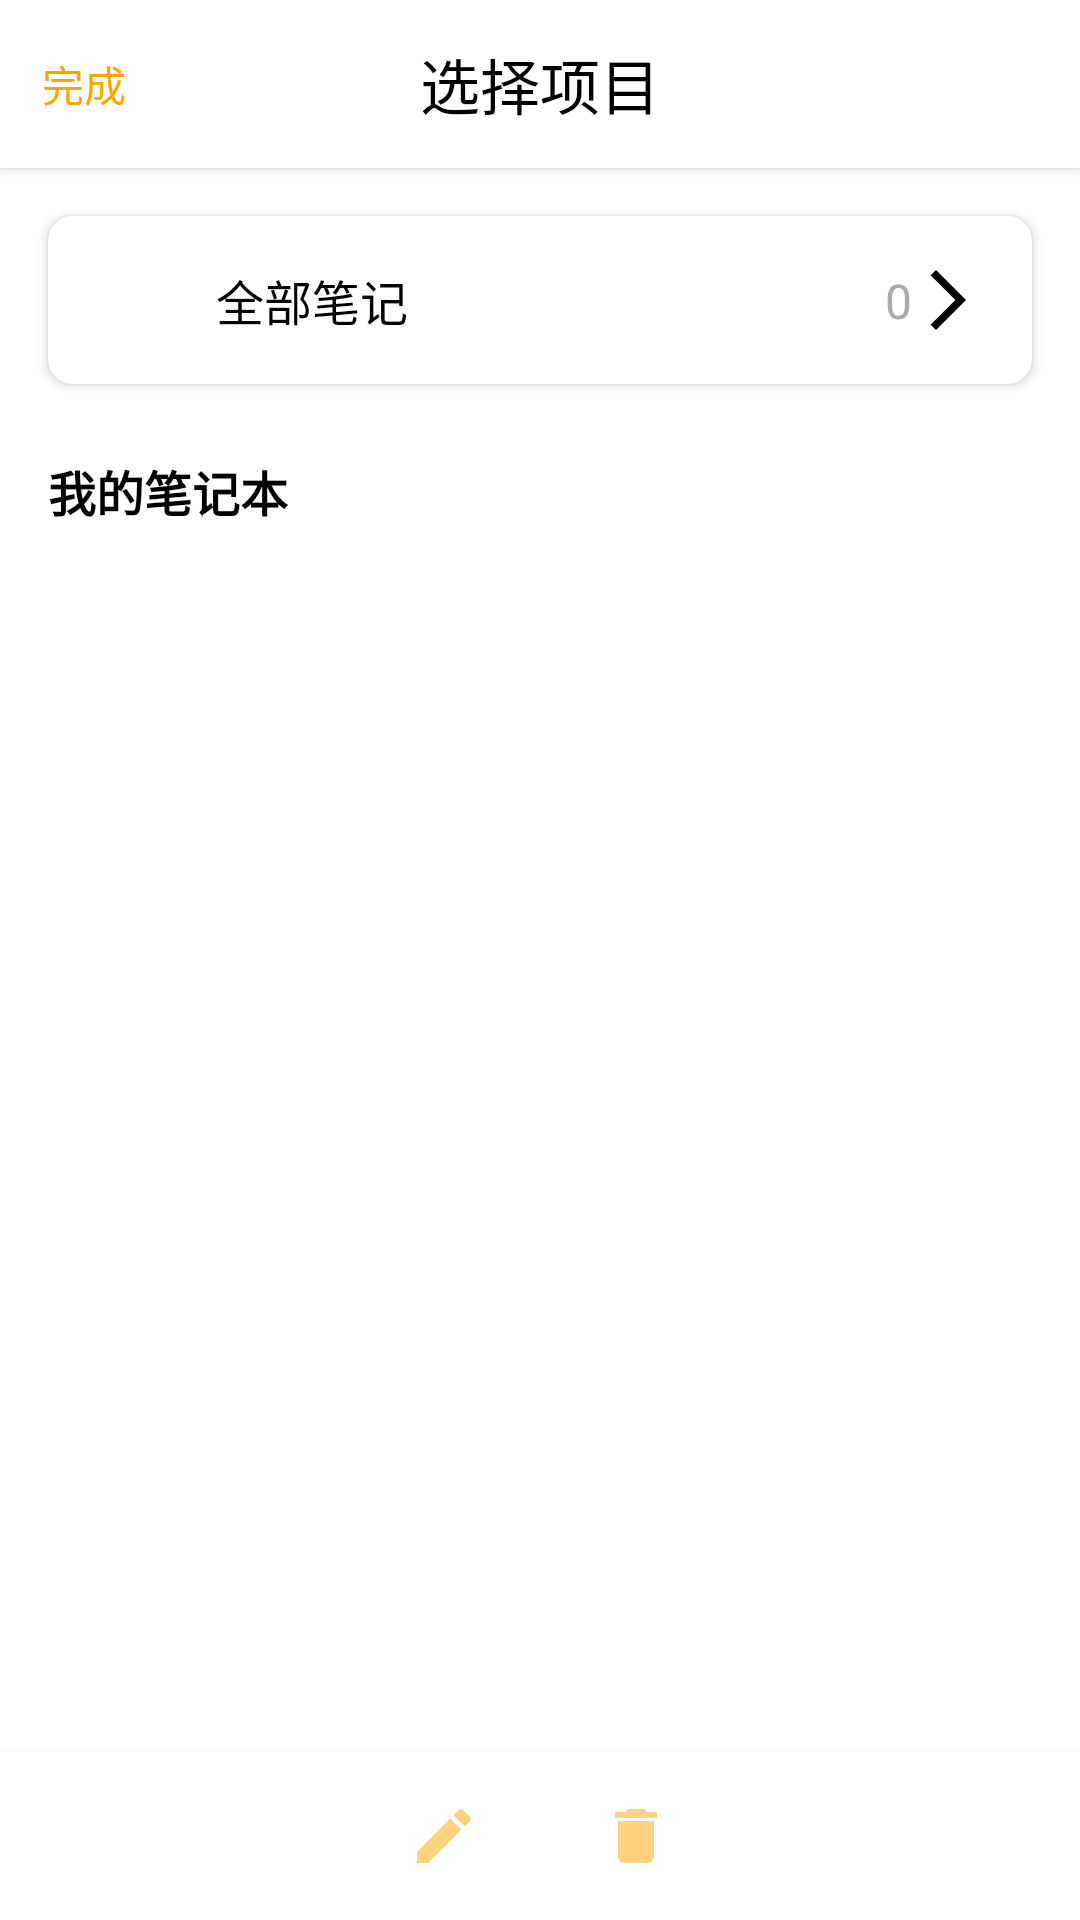

Screen size 1080 x 1920. Icon name, then its center in pixels as (x=x, y=y):
arrow right: (x=948, y=300)
edit: (x=444, y=1836)
